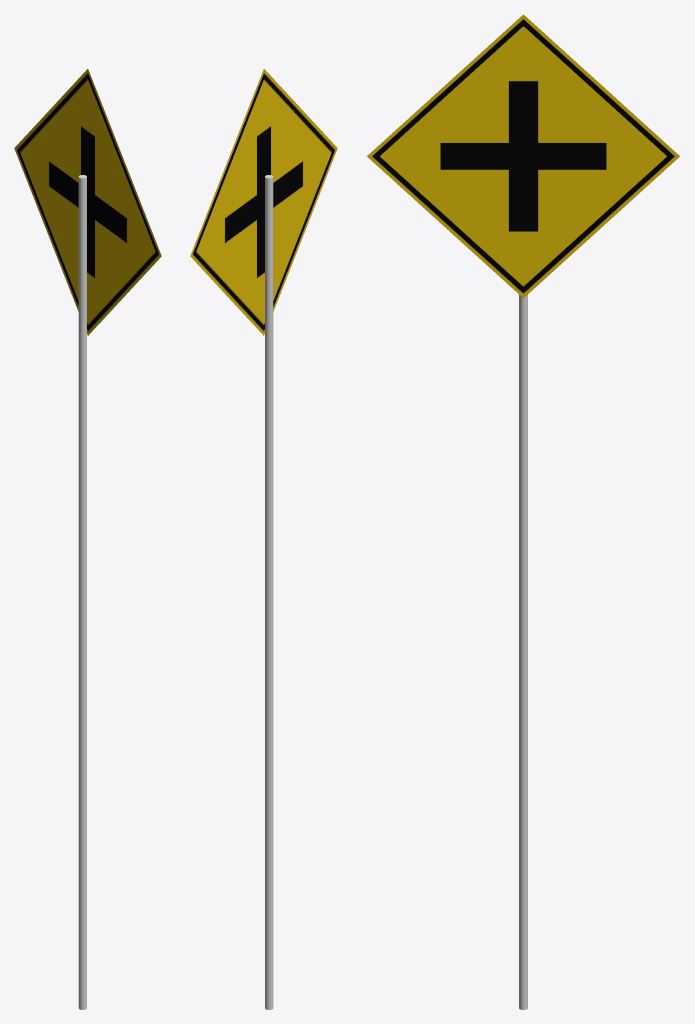
The model's file is simpang4.fbx.
3 renders of one model, left to right at view 1: azimuth 30°, elevation 25°; view 2: azimuth 150°, elevation 25°; view 3: azimuth 270°, elevation 25°, orthographic. The views are drawn at different scales.
Visible parts, largest first — view 1: simpang-4, Cylinder; view 2: simpang-4, Cylinder; view 3: simpang-4, Cylinder.
Boxes of the visible parts, x1,y1,x2,y2 form: simpang-4: (14,69,161,335); Cylinder: (78,175,86,1009); simpang-4: (190,69,337,335); Cylinder: (265,175,273,1009); simpang-4: (367,14,679,297); Cylinder: (519,294,527,1009).
Bounding box in the file's own units: 3.43 × 350 × 100.
